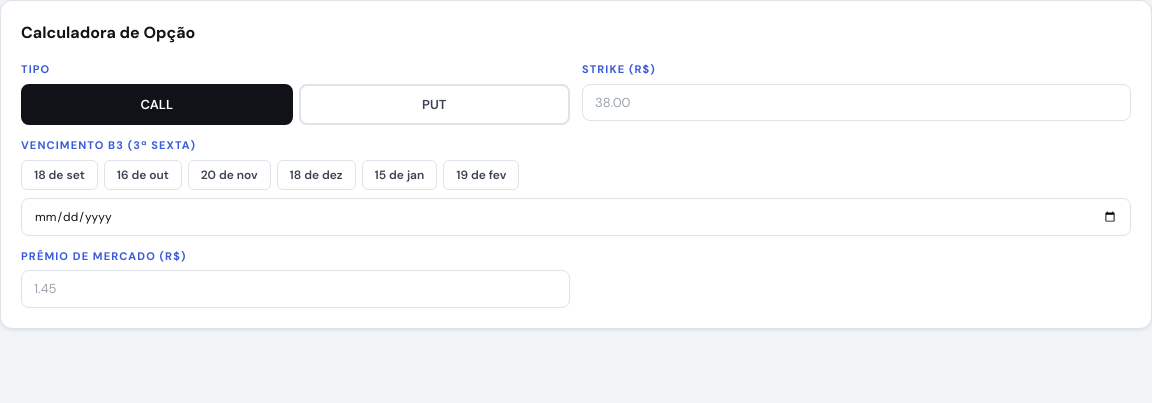
Test case: OptionAnalyzer › alternar para PUT recalcula o intrínseco e pode disparar o erro
Click the button "PUT" at [434, 104], box [298, 84, 570, 125]
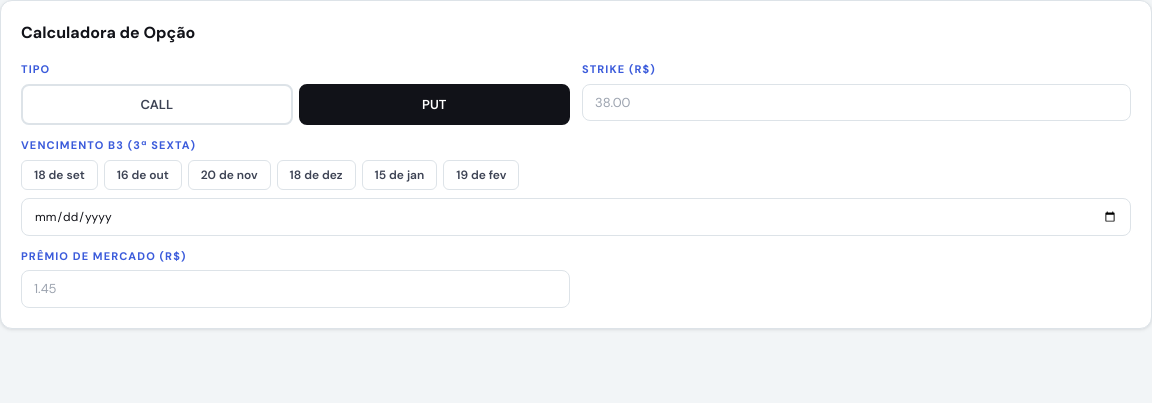
Type "45" into the number field with placeholder "38.00" at [856, 102], box [582, 84, 1131, 121]
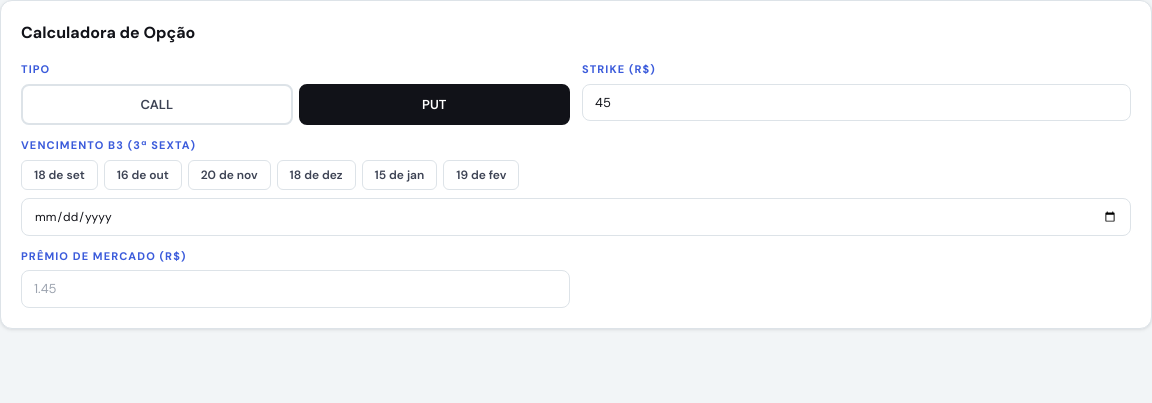
Type "0.50" into the number field with placeholder "1.45" at [296, 289], box [21, 270, 570, 308]
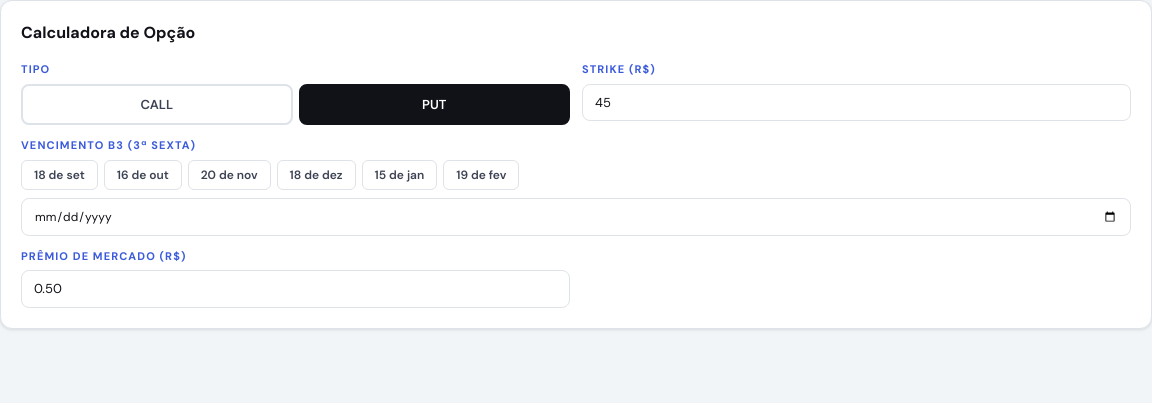
Type "2099-12-01" into the date field at [576, 216], box [21, 198, 1131, 236]
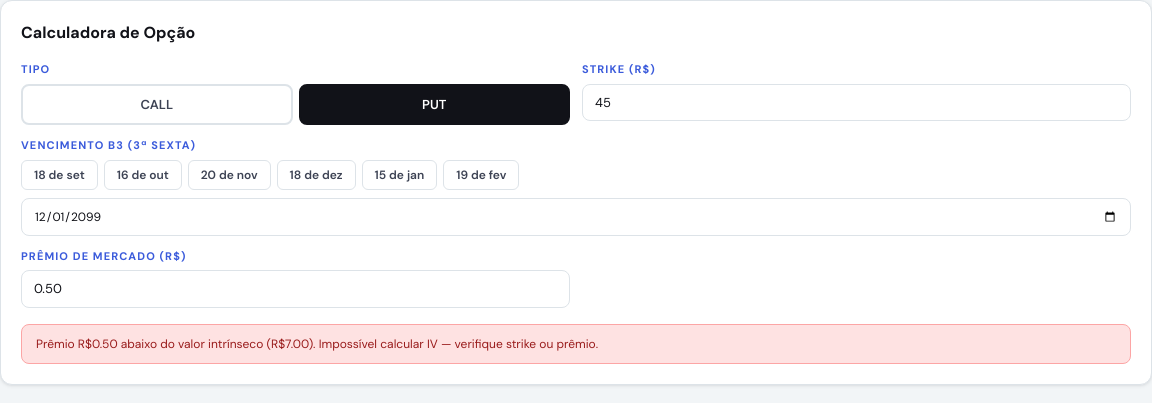
Result: the text "abaixo do valor intrínseco" is shown at [36, 336, 598, 352]
